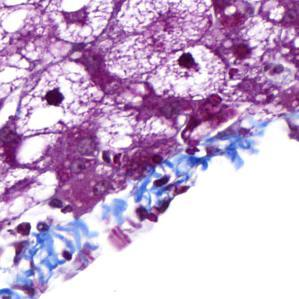ballooning: (14, 60, 95, 136), (144, 41, 230, 104), (46, 5, 120, 51)
